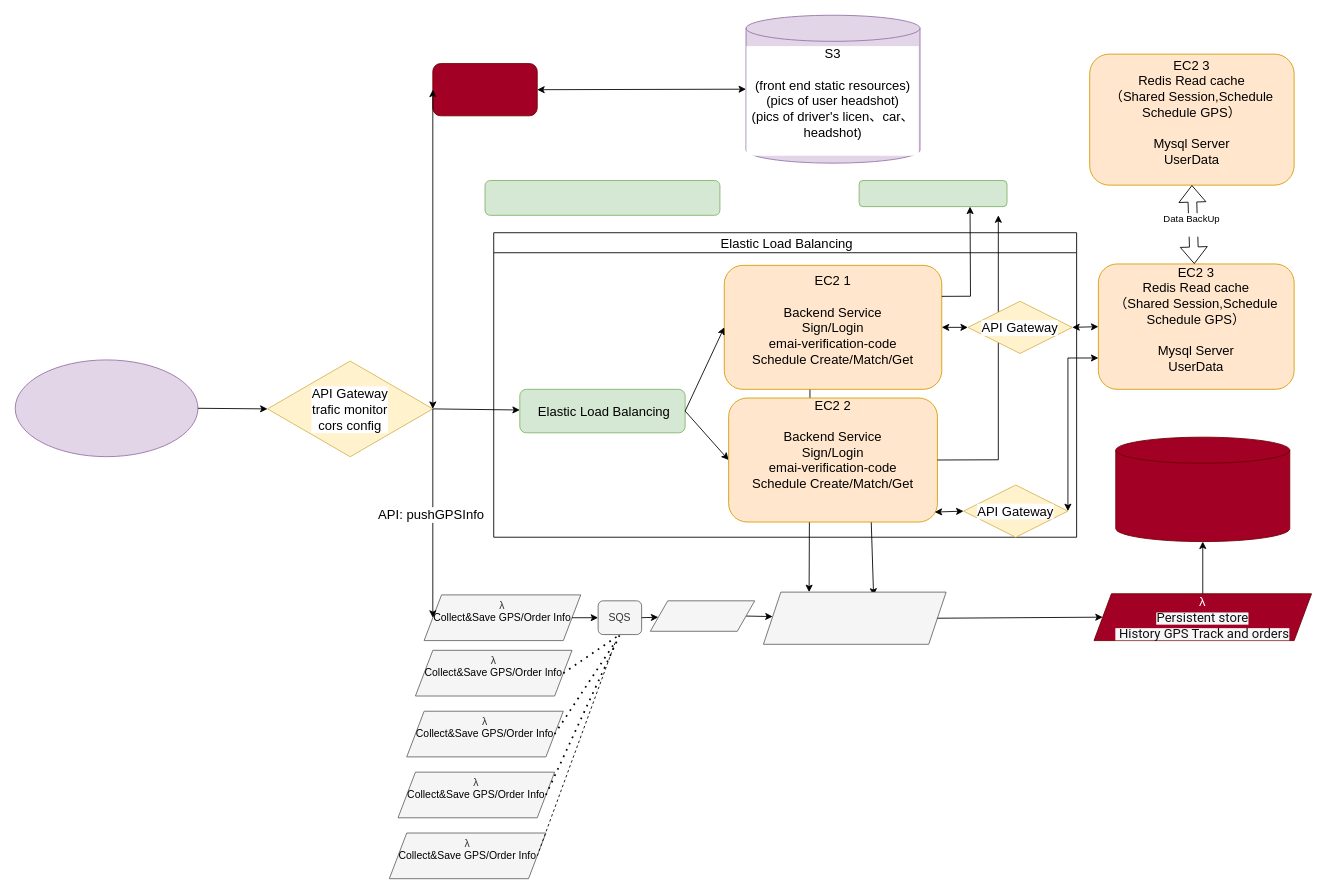
Image size: 1327x894. Some labels were removed from this diagram. The shapes that lost their labels are listed below. From the top down, each one's centre as x and y in pixels, then its label:
(484,89): Cloudfront
(602,197): Cloudwatch:Auto em beded as monitor
(932,193): AWS Secrets Management
(106,408): Client H5 App/Broswer Flexshare Application
(1202,489): DynamoDB Shared Session Order information HistoryGPS data
(702,615): λ Store To Cache
(854,617): Amazon Elastic Cache for Redis GPS Info Order Info Session
